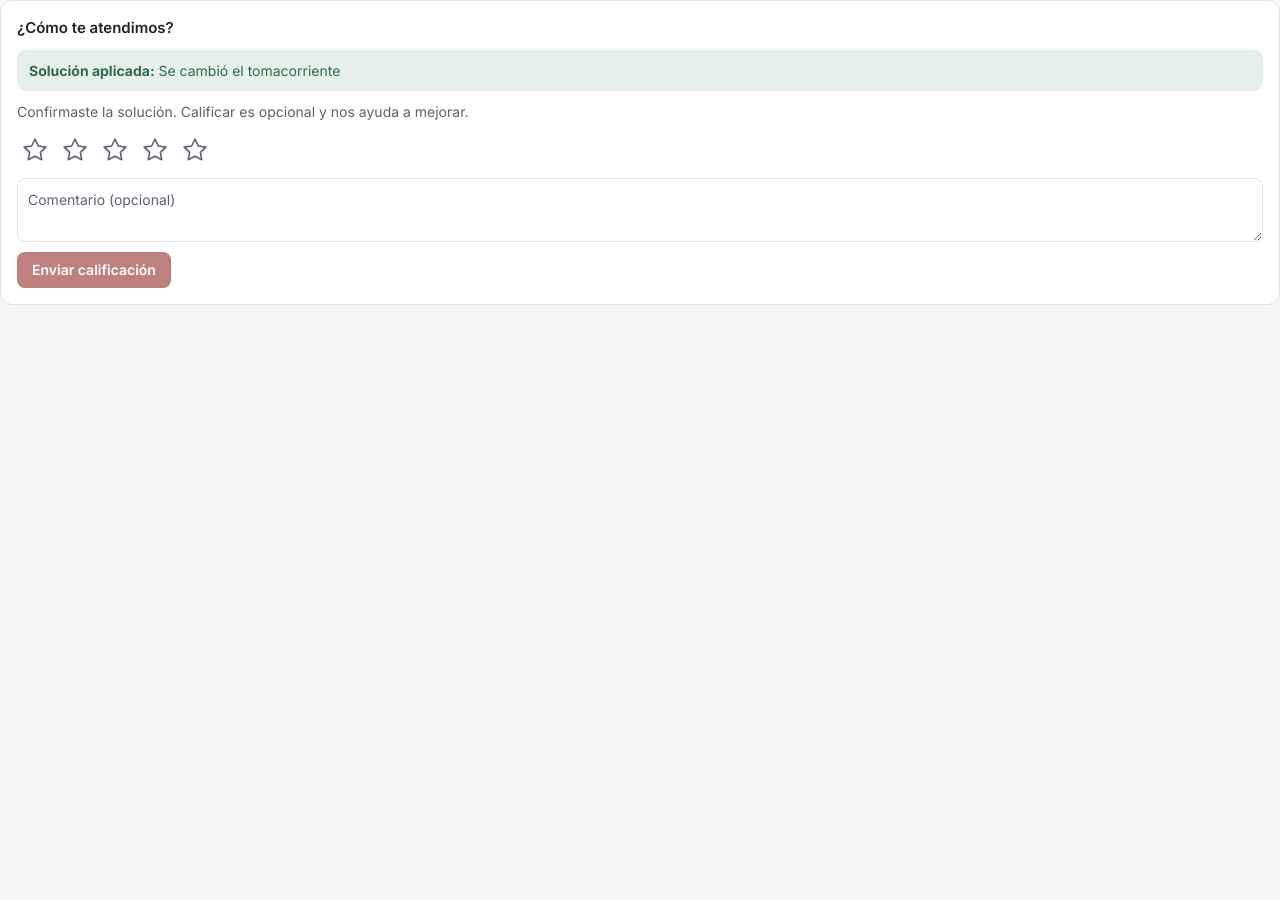
it: SatisfactionPanel: solicitud cerrada › si ya estaba calificada, muestra el motivo del servidor
Click the radio button named "3 estrellas": point(115, 150) [97,132,133,168]
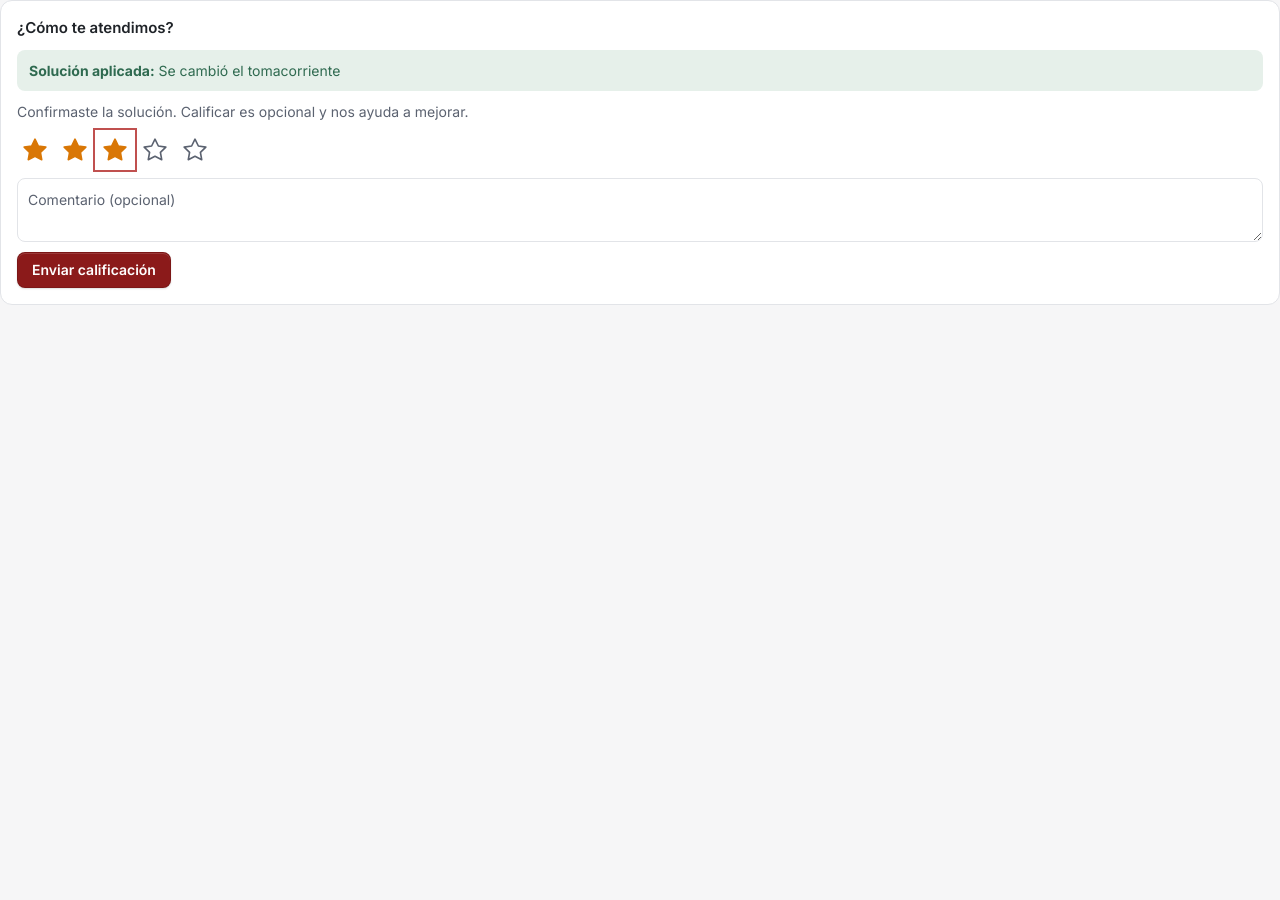
Click the button "Enviar calificación": point(94, 270) [17,252,171,288]
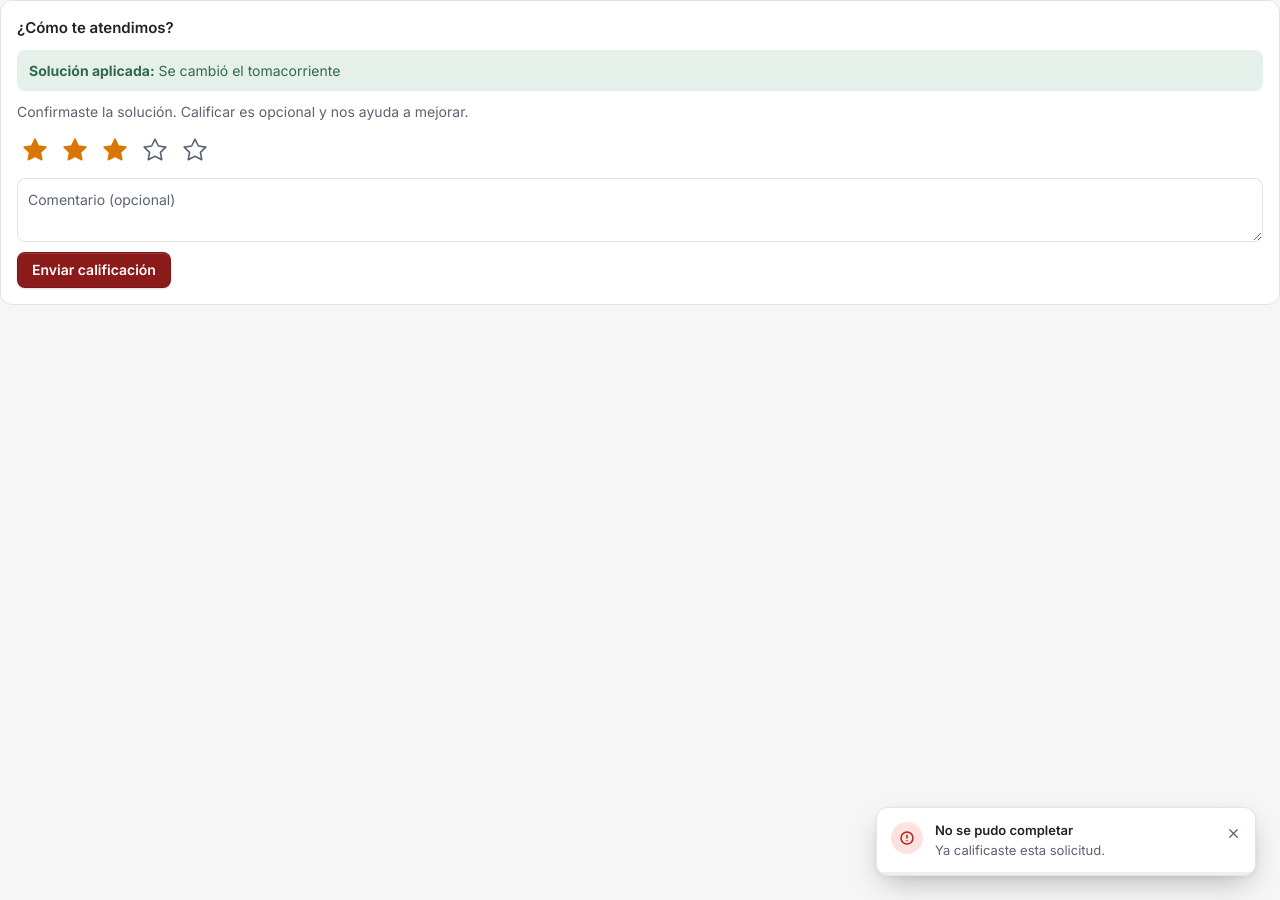
Check: the text "Ya calificaste esta solicitud." is shown, box [935,842,1105,858]
